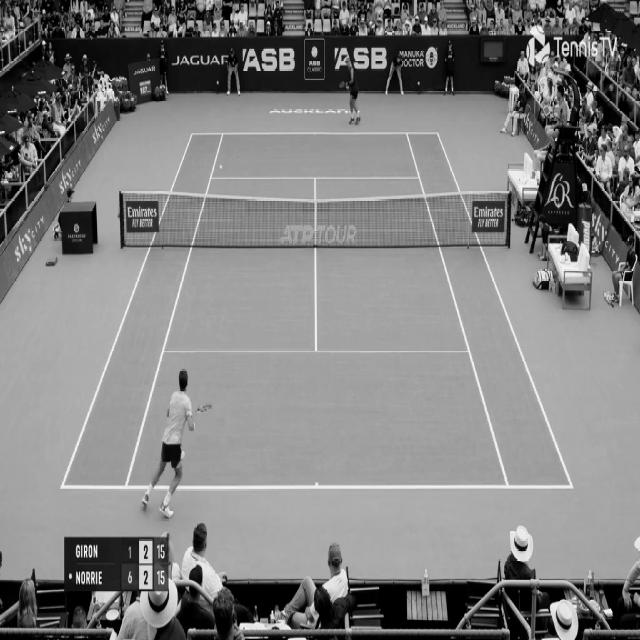tennis-court: (60, 132, 573, 489)
